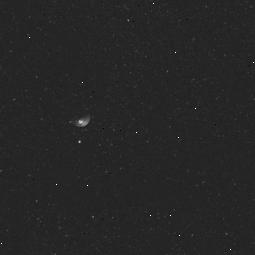debris: (53, 96, 95, 142)
